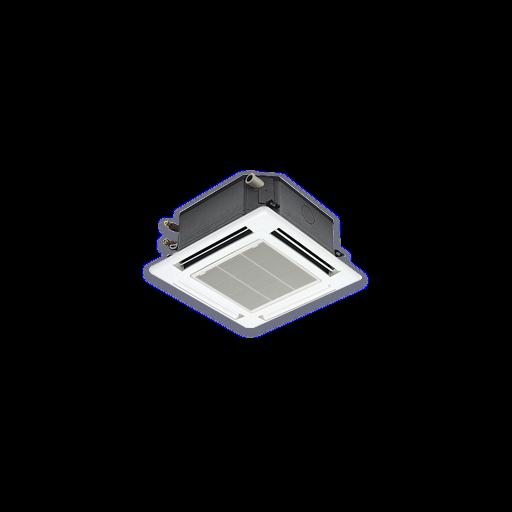4-way-ac: (150, 207, 362, 329)
